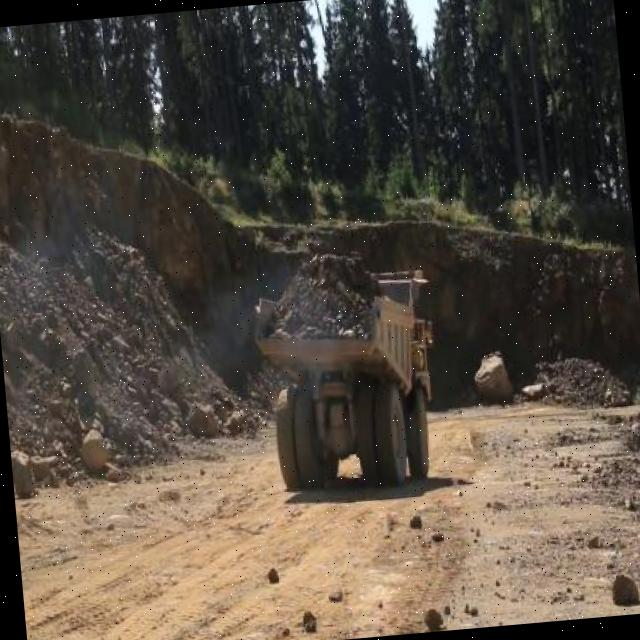Dump Truck: (248, 246, 447, 496)
